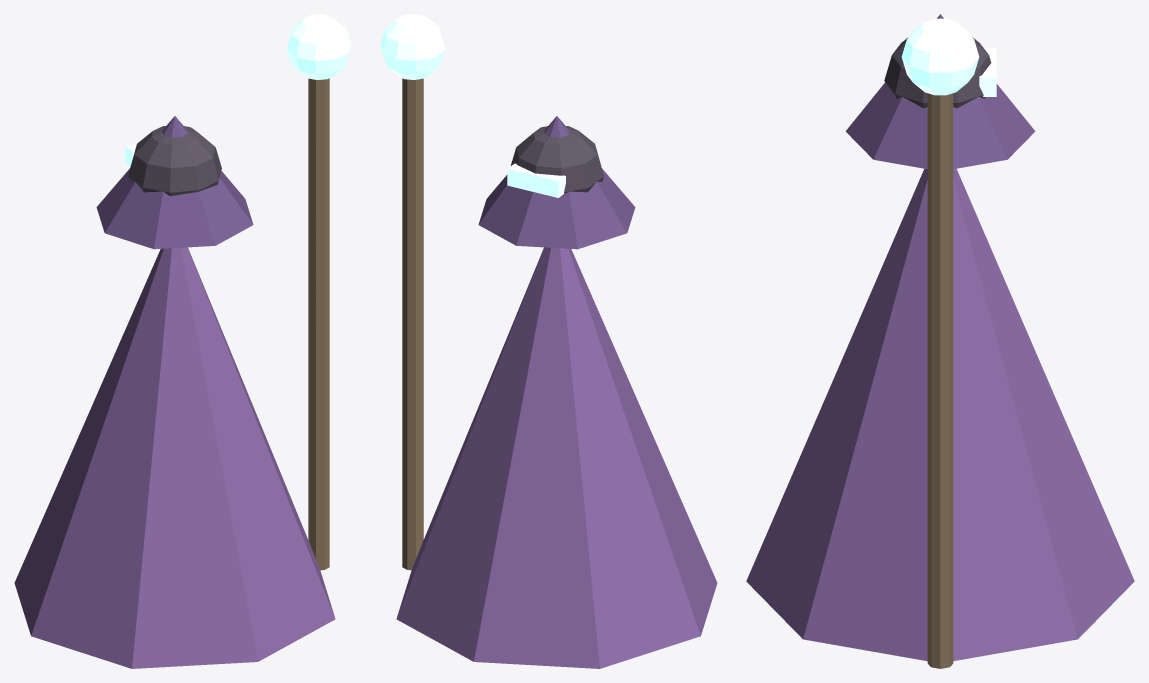
Rendered from dungeon_mage.glb.
The picture shows the model from 3 angles, left to right: view 1: azimuth 30°, elevation 25°; view 2: azimuth 150°, elevation 25°; view 3: azimuth 270°, elevation 25°; orthographic projection. The views are drawn at different scales.
Visible parts, largest first — view 1: robe; view 2: robe; view 3: robe.
Part boxes in pixels (box(x1,y1,x2,y2)): robe: box(14, 14, 351, 668); robe: box(380, 14, 717, 668); robe: box(746, 14, 1134, 668).
Bounding box in the file's own units: 0.9856 × 1.64 × 0.9.
